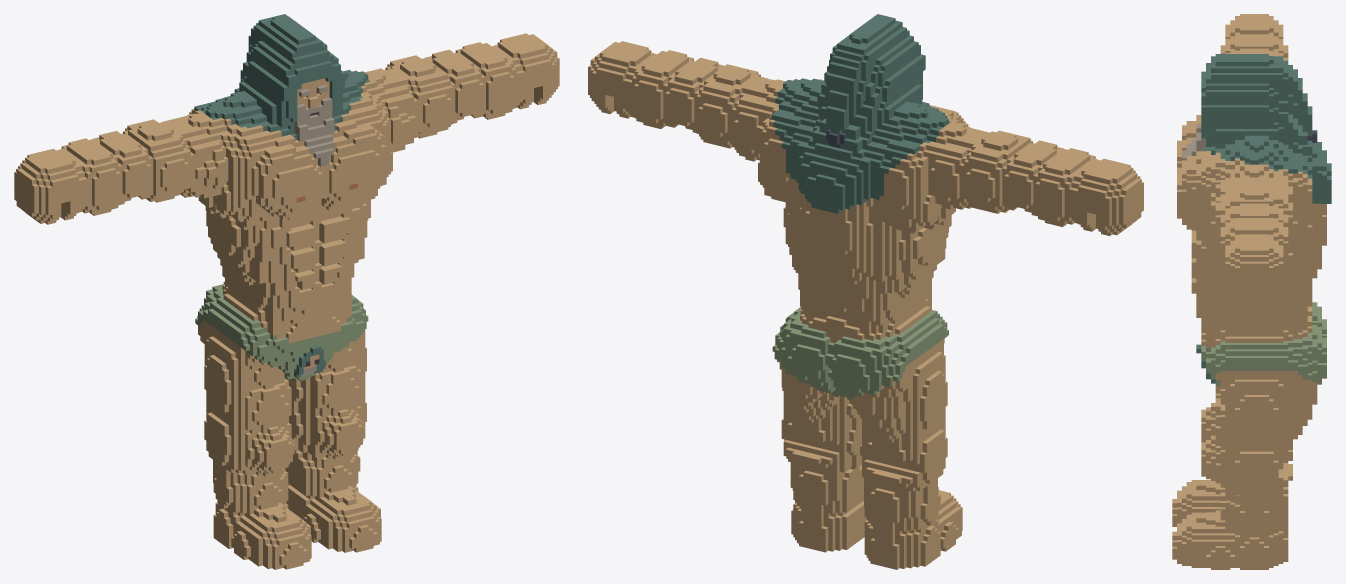
File: BossWizard.obj
The picture shows the model from 3 angles, left to right: view 1: azimuth 30°, elevation 25°; view 2: azimuth 150°, elevation 25°; view 3: azimuth 270°, elevation 25°; orthographic projection. The views are drawn at different scales.
Size of the model in its own units: 12 by 11 by 3.3.
1 material, 1 textured.
